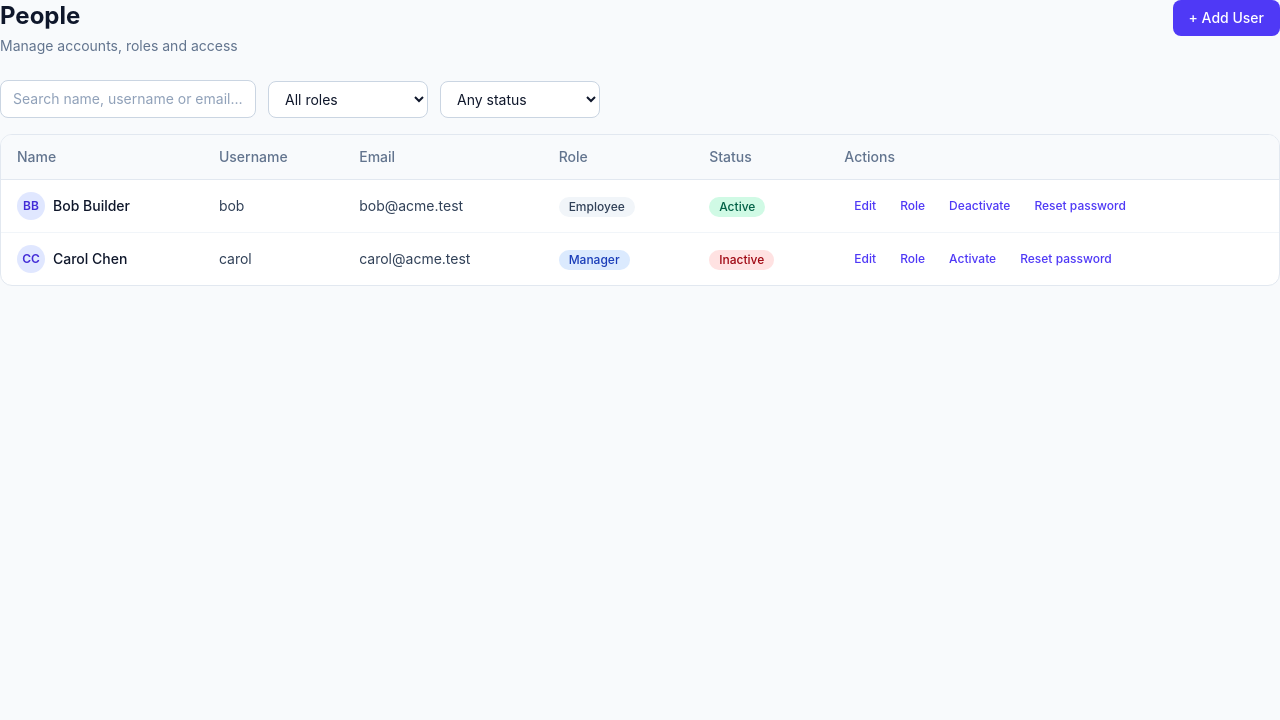
Scenario: UsersPage › edits a user without exposing username, role or password fields
Expected: the text "Bob Builder" is shown, [53, 196, 130, 216]
Click the 1st button "Edit" at [865, 206], box [844, 194, 886, 218]
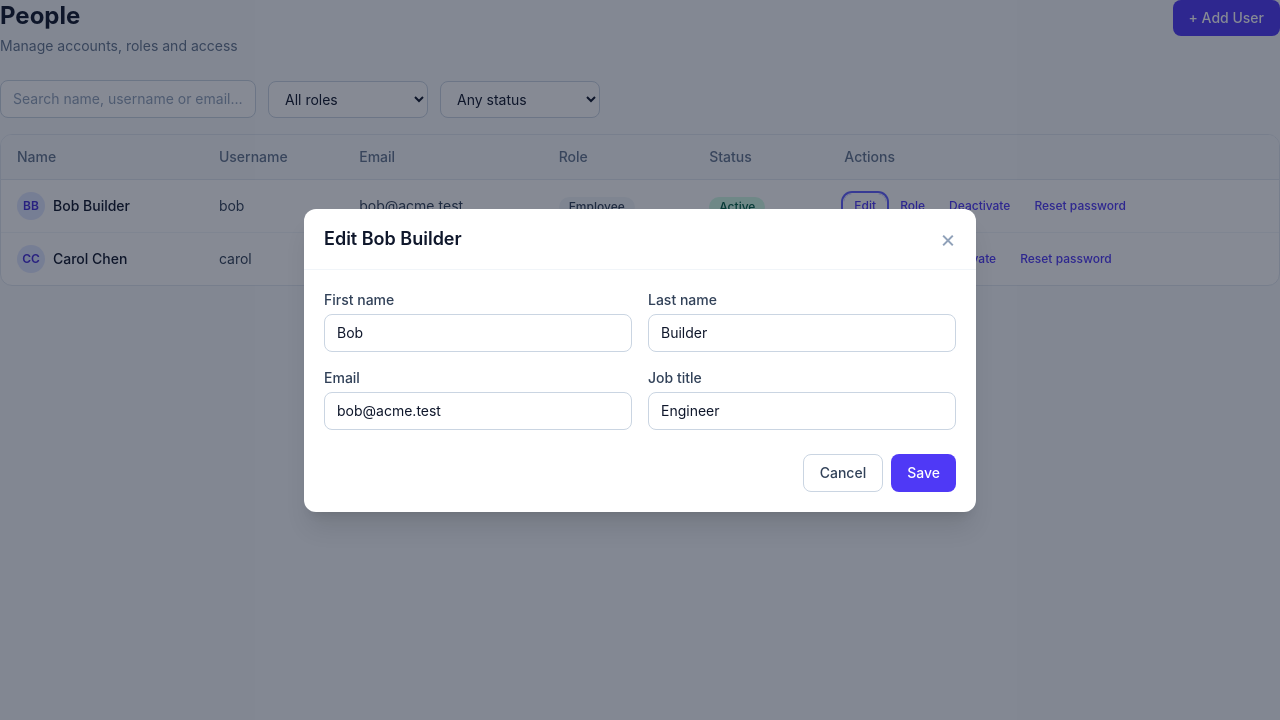
Now the field labelled "Email" holds "bob@acme.test", box [324, 392, 632, 430]
Replace the text in the field labelled "Job title" with "Lead" at [802, 410], box [648, 392, 956, 430]
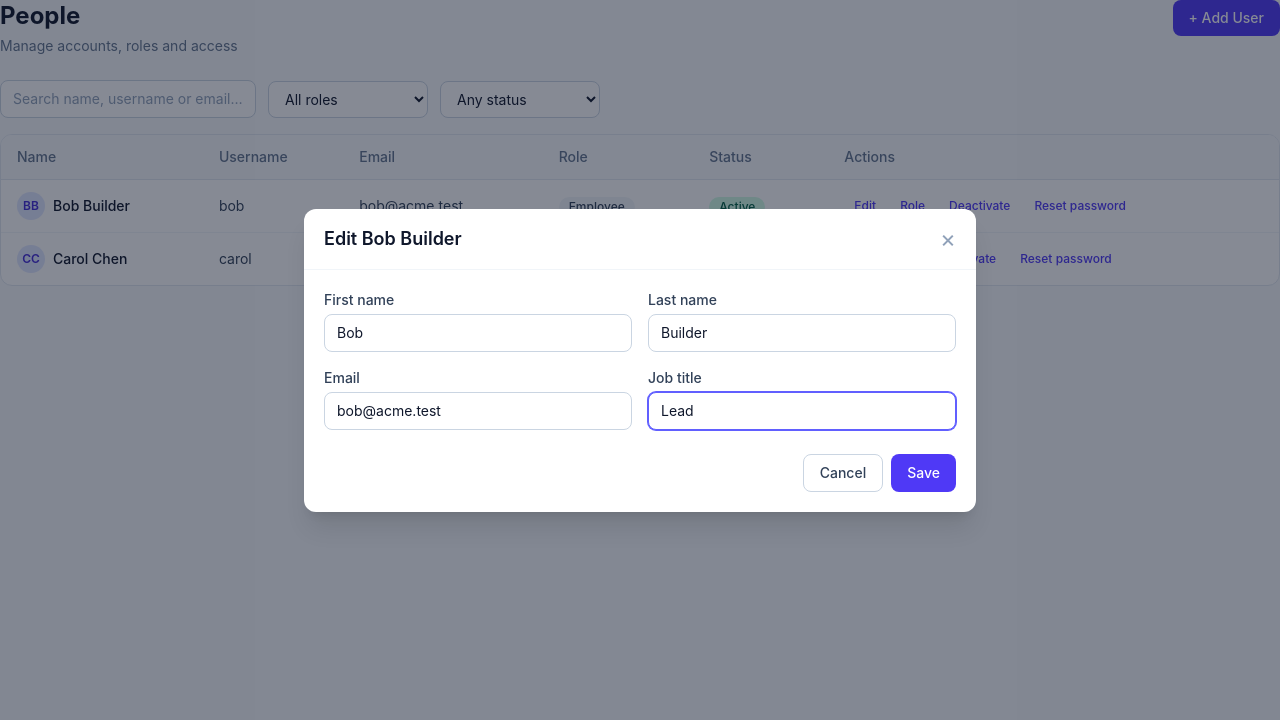
Click the button "Save" at [924, 472], box [891, 454, 956, 492]
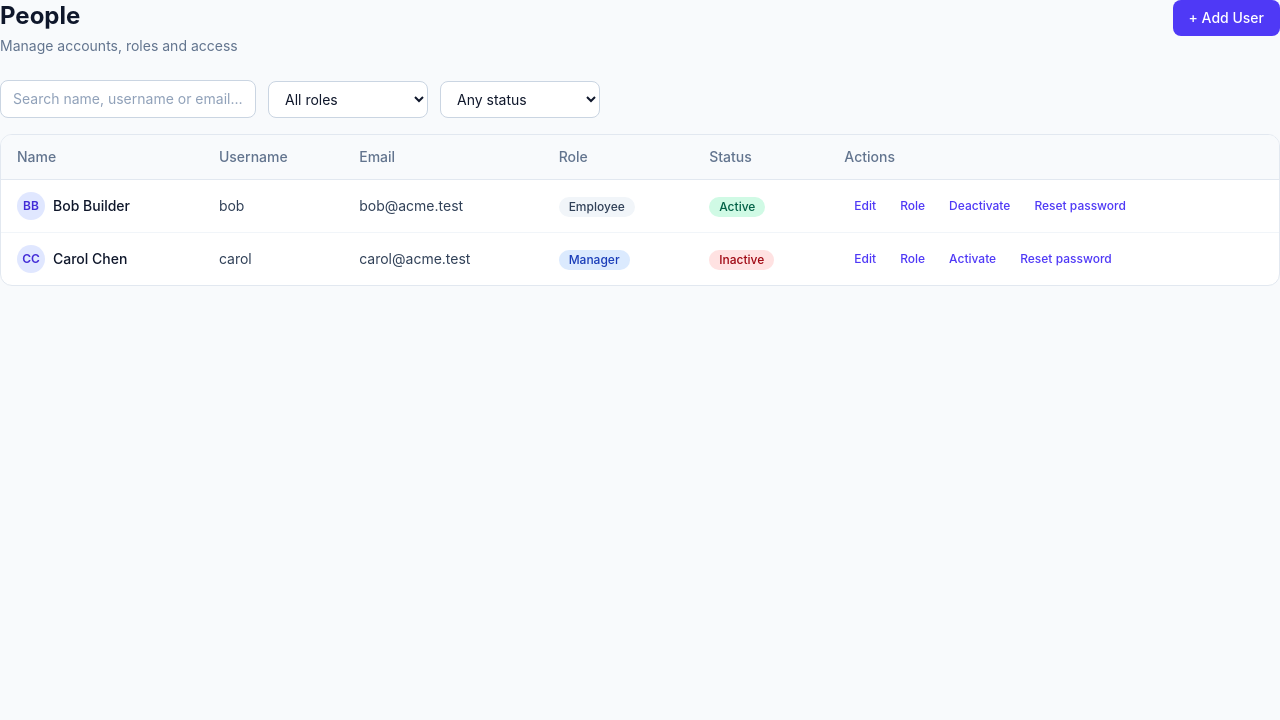
Now the dialog is gone
